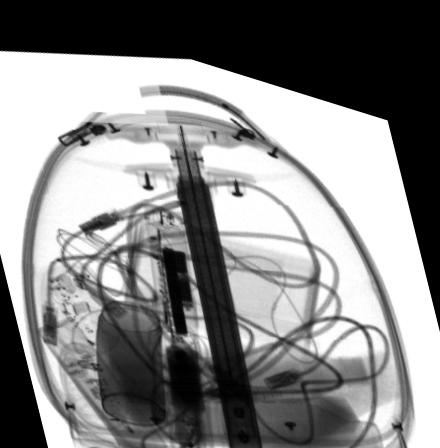Baton: (147, 210, 215, 448)
